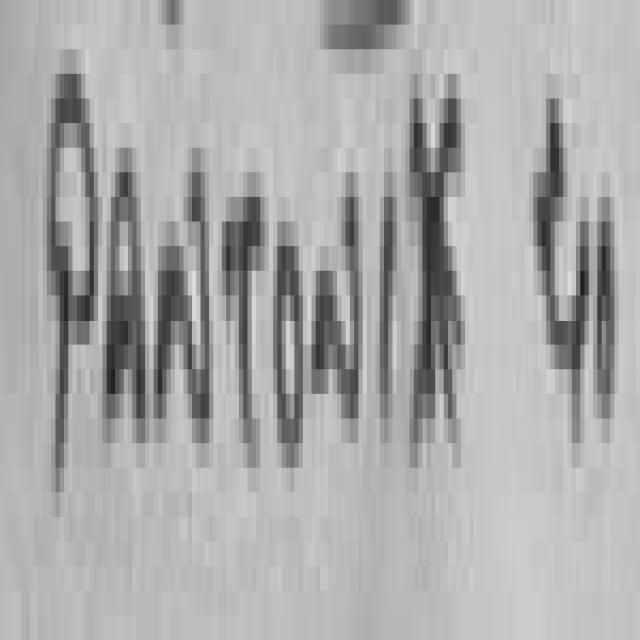0: (599, 221, 619, 418)
4: (538, 98, 593, 431)
A: (105, 172, 149, 450)
I: (384, 197, 397, 406)
N: (158, 172, 209, 443), (315, 197, 363, 441)
O: (277, 246, 303, 468)
P: (51, 74, 98, 559)
T: (220, 217, 270, 480)
X: (408, 79, 469, 457)
